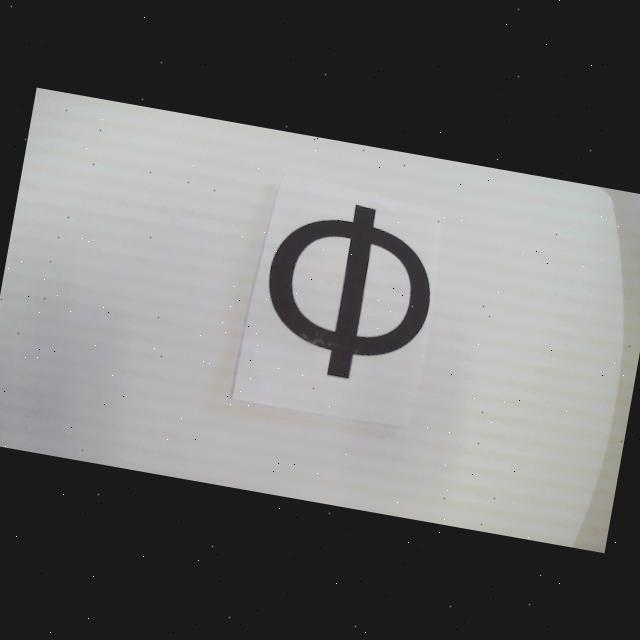PHI: (253, 190, 444, 391)
